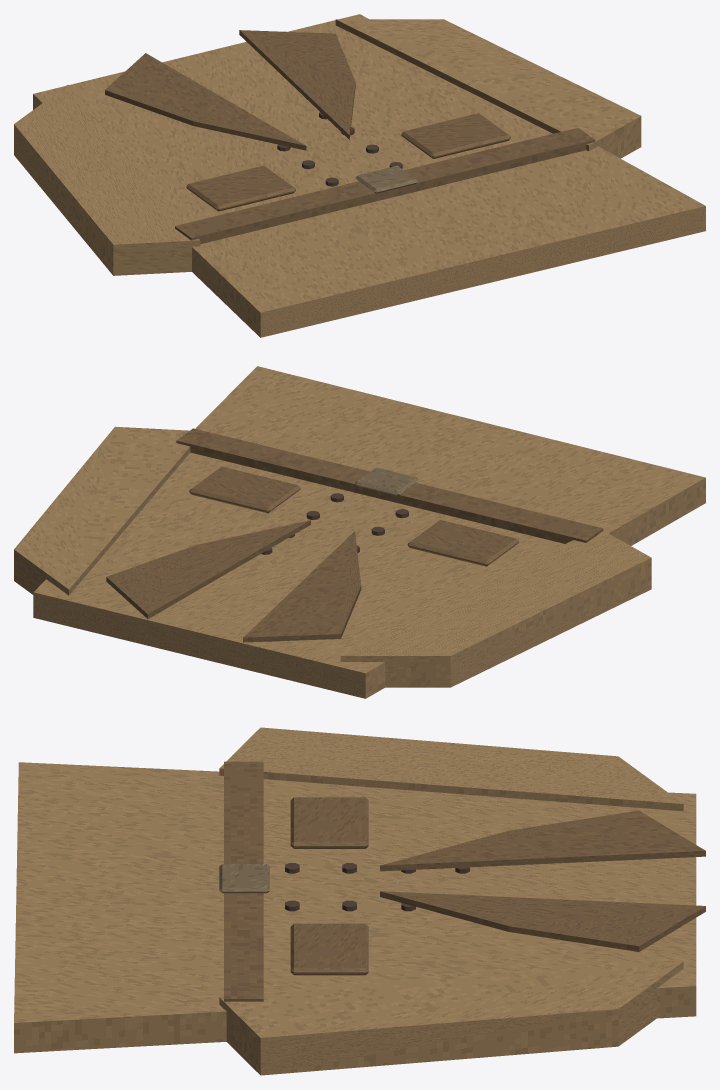
File: trenchcoat.glb
3 renders of one model, top to bottom at view 1: azimuth 30°, elevation 25°; view 2: azimuth 150°, elevation 25°; view 3: azimuth 270°, elevation 25°, orthographic. The views are drawn at different scales.
Visible parts, largest first — view 1: block_coat body, block_sleeve -1, block_sleeve 1, block_belt, block_lapel -1, block_lapel 1, block_pocket -1, block_pocket 1, block_buckle; view 2: block_coat body, block_sleeve -1, block_sleeve 1, block_belt, block_lapel 1, block_lapel -1, block_pocket 1, block_pocket -1, block_buckle; view 3: block_coat body, block_sleeve 1, block_sleeve -1, block_lapel -1, block_lapel 1, block_belt, block_pocket 1, block_pocket -1, block_buckle.
Part boxes in pixels (x1,y1,x2,y2): block_coat body: (33, 14, 705, 337); block_sleeve -1: (14, 85, 200, 275); block_sleeve 1: (335, 19, 641, 158); block_belt: (175, 127, 594, 244); block_lapel -1: (105, 53, 306, 150); block_lapel 1: (239, 30, 355, 139); block_pocket -1: (186, 165, 295, 211); block_pocket 1: (401, 113, 510, 158); block_buckle: (355, 165, 417, 193); block_coat body: (33, 366, 705, 698); block_sleeve -1: (340, 530, 651, 687); block_sleeve 1: (14, 426, 190, 595); block_belt: (176, 428, 603, 543); block_lapel 1: (106, 520, 310, 618); block_lapel -1: (243, 531, 361, 642); block_pocket 1: (189, 466, 300, 513); block_pocket -1: (407, 520, 518, 566); block_buckle: (355, 467, 418, 495); block_coat body: (14, 762, 696, 1053); block_sleeve 1: (219, 961, 683, 1075); block_sleeve -1: (219, 727, 683, 811); block_lapel -1: (380, 810, 705, 871); block_lapel 1: (380, 891, 705, 951); block_belt: (224, 761, 263, 1001); block_pocket 1: (290, 923, 368, 975); block_pocket -1: (290, 797, 368, 848); block_buckle: (219, 864, 269, 893).
Size of the model in its own units: 0.462 by 0.032 by 0.435.
1 material, 1 textured.
